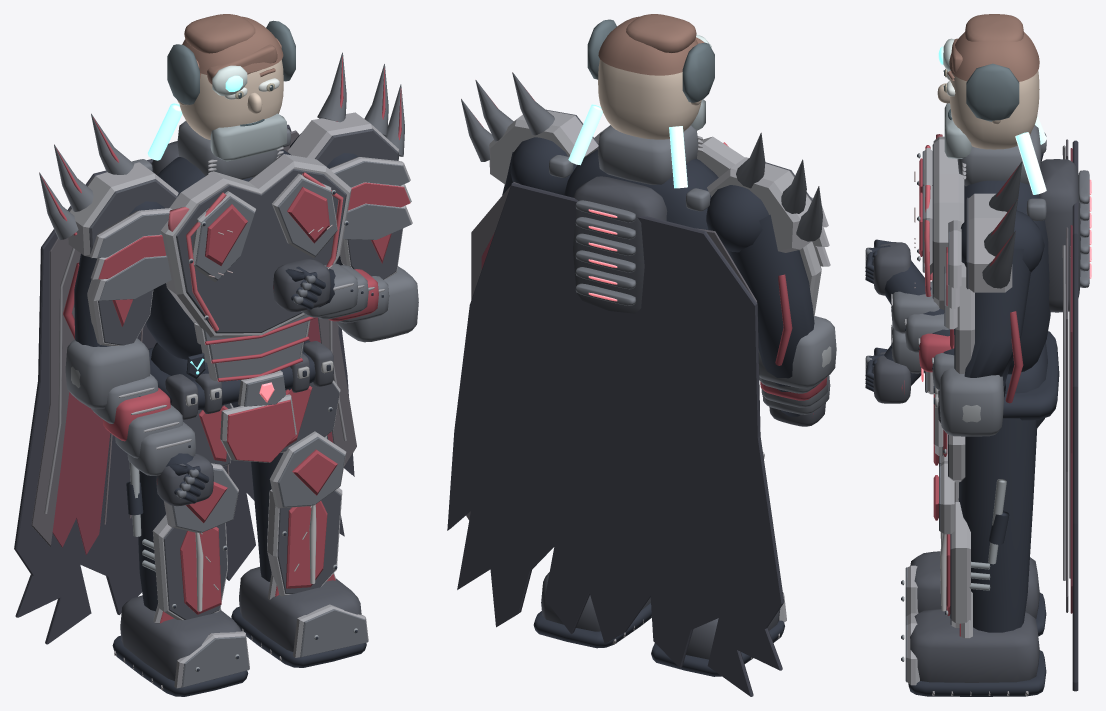
File: james_ti.glb
The picture shows the model from 3 angles, left to right: view 1: azimuth 30°, elevation 25°; view 2: azimuth 150°, elevation 25°; view 3: azimuth 270°, elevation 25°; orthographic projection.
Visible parts, largest first — view 1: Torn ceremonial cloak, Cathedral breastplate armour face, Torn crimson cloak lining -1, Cloak heavy outer fold -1, Cathedral breastplate steel bevel, L boot foundation, R boot foundation, L elbow shield, Brown / Face, Pressure undersuit torso, Pelvic hanging shield armour face, R elbow shield (+76 smaller); view 2: Torn ceremonial cloak, L arm flex undersuit, Spinal reactor housing, Brown / Face, Armoured gorget, Pressure undersuit torso, L pauldron crest steel bevel, L shoulder swivel, Brown / Hair cap, R pauldron crest steel bevel, L elbow shield, Cybernetic temple implant (×2) (+24 smaller); view 3: R articulated leg, R boot foundation, R arm flex undersuit, Spinal reactor housing, Pressure undersuit torso, R elbow shield, Torn ceremonial cloak, Brown / Face, Cathedral breastplate steel bevel, Brown / Hair cap, Cybernetic temple implant, R pauldron crest steel bevel (+40 smaller).
Part boxes in pixels (left/top/right/bottom): Torn ceremonial cloak: left=14, top=124, right=354, bottom=644; Cathedral breastplate armour face: left=176, top=169, right=346, bottom=333; Torn crimson cloak lining -1: left=52, top=392, right=110, bottom=554; Cloak heavy outer fold -1: left=31, top=238, right=80, bottom=546; Cathedral breastplate steel bevel: left=161, top=154, right=351, bottom=337; L boot foundation: left=120, top=595, right=241, bottom=680; R boot foundation: left=239, top=567, right=361, bottom=651; L elbow shield: left=65, top=338, right=150, bottom=409; Brown / Face: left=179, top=60, right=283, bottom=139; Pressure undersuit torso: left=146, top=149, right=291, bottom=359; Pelvic hanging shield armour face: left=226, top=400, right=295, bottom=462; R elbow shield: left=335, top=266, right=418, bottom=342; Torn ceremonial cloak: left=447, top=182, right=784, bottom=696; L arm flex undersuit: left=728, top=214, right=814, bottom=416; Spinal reactor housing: left=573, top=176, right=667, bottom=313; Brown / Face: left=598, top=59, right=701, bottom=139; Armoured gorget: left=598, top=125, right=698, bottom=184; Pressure undersuit torso: left=564, top=149, right=729, bottom=254; L pauldron crest steel bevel: left=707, top=157, right=811, bottom=252; L shoulder swivel: left=706, top=185, right=768, bottom=252; Brown / Hair cap: left=598, top=16, right=698, bottom=75; R pauldron crest steel bevel: left=489, top=110, right=598, bottom=184; L elbow shield: left=758, top=316, right=836, bottom=388; Cybernetic temple implant (×2): left=587, top=19, right=714, bottom=102; R articulated leg: left=958, top=418, right=1037, bottom=632; R boot foundation: left=910, top=609, right=1039, bottom=682; R arm flex undersuit: left=884, top=248, right=1030, bottom=398; Spinal reactor housing: left=1039, top=159, right=1080, bottom=312; Pressure undersuit torso: left=964, top=180, right=1050, bottom=374; R elbow shield: left=939, top=368, right=1004, bottom=436; Torn ceremonial cloak: left=1072, top=140, right=1078, bottom=691; Brown / Face: left=949, top=70, right=1039, bottom=149; Cathedral breastplate steel bevel: left=933, top=136, right=964, bottom=309; Brown / Hair cap: left=949, top=32, right=1039, bottom=81; Cybernetic temple implant: left=966, top=63, right=1019, bottom=121; R pauldron crest steel bevel: left=968, top=193, right=1012, bottom=292.
Bounding box in the file's own units: 2.56 × 4.25 × 1.39.
